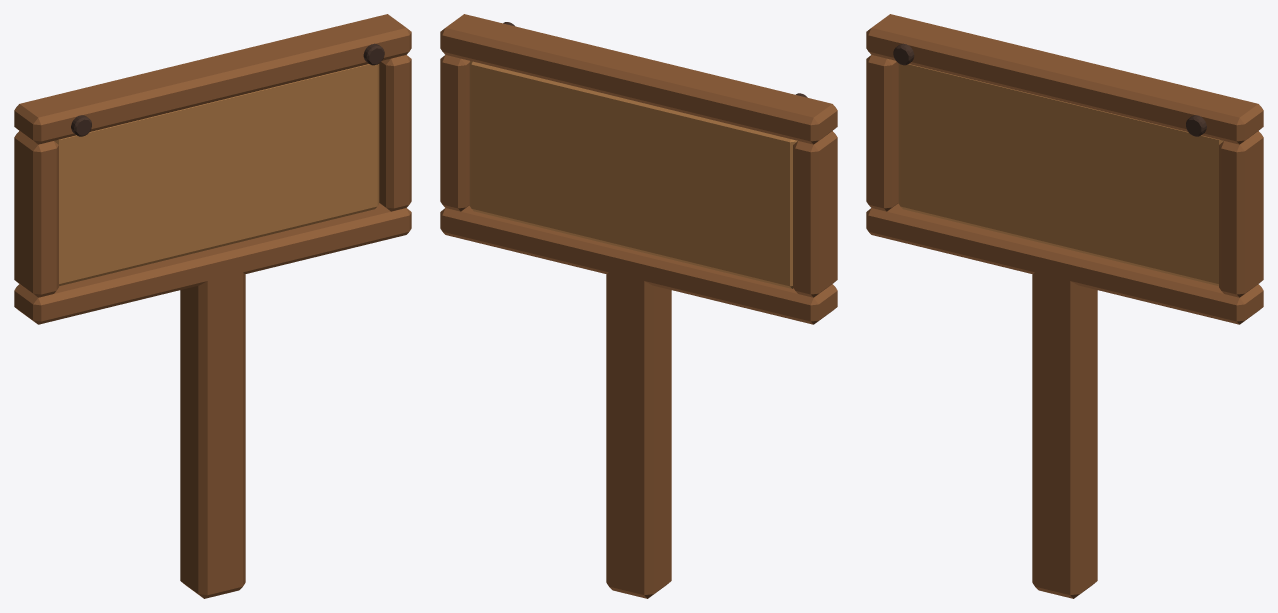
The model's file is WoodenSign.glb.
3 renders of one model, left to right at view 1: azimuth 30°, elevation 25°; view 2: azimuth 150°, elevation 25°; view 3: azimuth 330°, elevation 25°, orthographic.
Visible parts, largest first — view 1: WoodenSign_Board, WoodenSign_Frame, WoodenSign_Post, WoodenSign_Fasteners; view 2: WoodenSign_Board, WoodenSign_Frame, WoodenSign_Post; view 3: WoodenSign_Board, WoodenSign_Frame, WoodenSign_Post, WoodenSign_Fasteners.
Boxes of the visible parts, left/top/right/bottom form: WoodenSign_Board: left=54, top=64, right=379, bottom=286; WoodenSign_Frame: left=14, top=14, right=411, bottom=324; WoodenSign_Post: left=180, top=257, right=245, bottom=598; WoodenSign_Fasteners: left=71, top=43, right=384, bottom=136; WoodenSign_Board: left=469, top=61, right=797, bottom=288; WoodenSign_Frame: left=440, top=14, right=837, bottom=324; WoodenSign_Post: left=606, top=257, right=671, bottom=598; WoodenSign_Board: left=898, top=64, right=1223, bottom=286; WoodenSign_Frame: left=866, top=14, right=1263, bottom=324; WoodenSign_Post: left=1032, top=257, right=1097, bottom=598; WoodenSign_Fasteners: left=893, top=43, right=1206, bottom=136.
Size of the model in its own units: 0.88 by 1.16 by 0.12.
